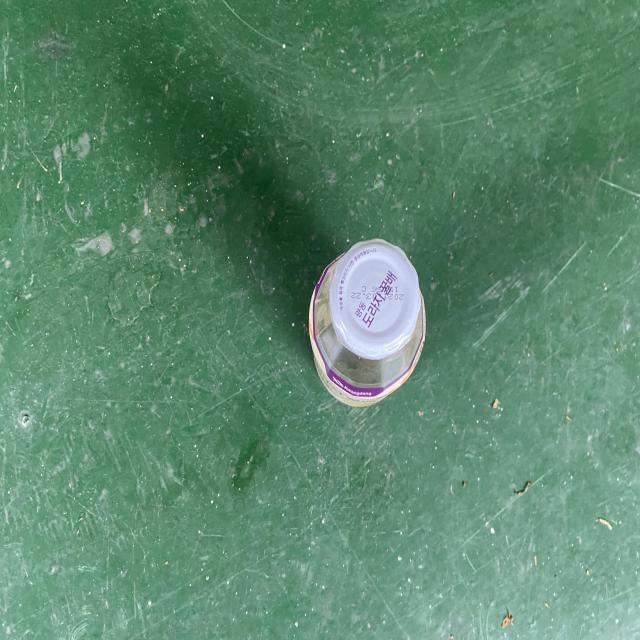glass: (309, 239, 425, 406)
